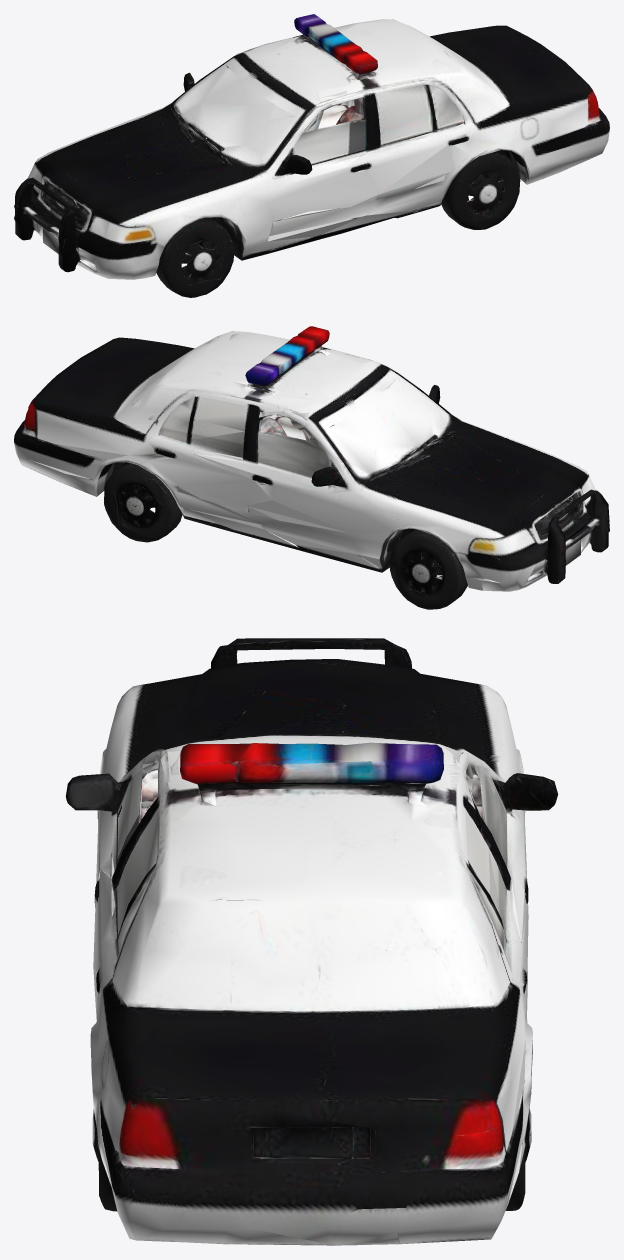
The model's file is police_cruiser_01.glb.
The picture shows the model from 3 angles, top to bottom: view 1: azimuth 30°, elevation 25°; view 2: azimuth 150°, elevation 25°; view 3: azimuth 270°, elevation 25°; orthographic projection. The views are drawn at different scales.
Visible parts, largest first — view 1: output_unwrapped; view 2: output_unwrapped; view 3: output_unwrapped.
Part boxes in pixels (bbox=[...]): output_unwrapped: bbox=[14, 14, 609, 297]; output_unwrapped: bbox=[14, 326, 609, 609]; output_unwrapped: bbox=[65, 638, 558, 1245].
Bounding box in the file's own units: 1.9 × 0.6045 × 0.7551.
Materials: 1 (1 with a texture image).
